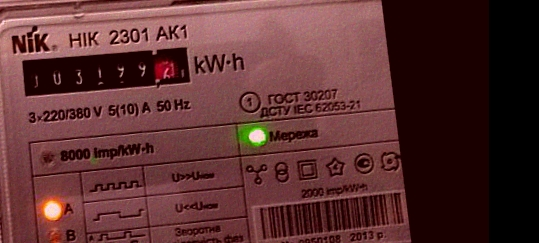0: (26, 67, 41, 90), (49, 65, 63, 86)
1: (93, 59, 105, 79)
3: (71, 65, 84, 85)
6: (161, 63, 172, 80)
9: (114, 58, 127, 79), (135, 57, 148, 77)
screen: (14, 34, 201, 110)
